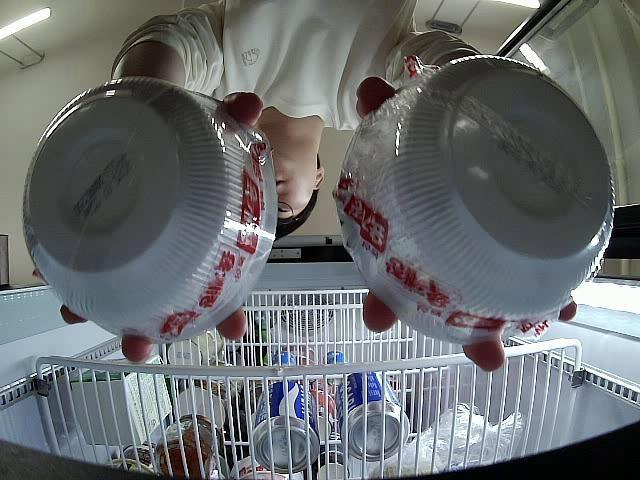09_yukGaeJang: (334, 56, 616, 345), (22, 79, 276, 344)
